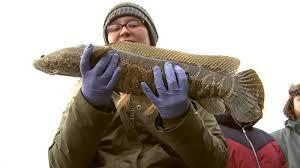Snakehead: (32, 37, 270, 130)
